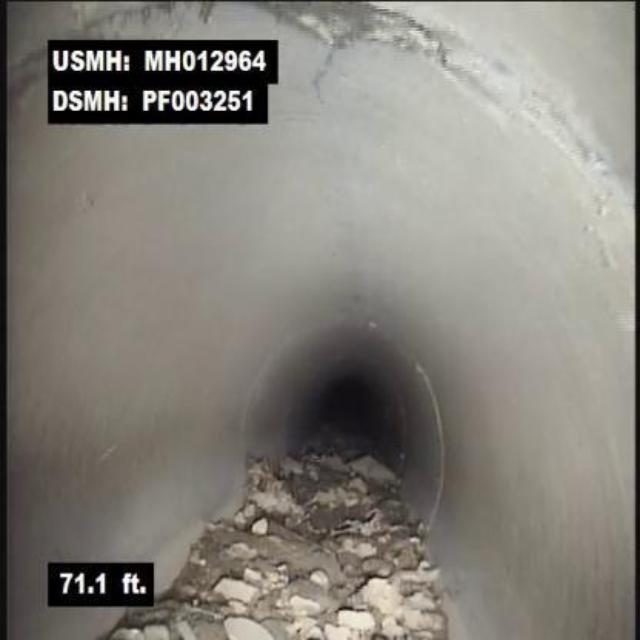Crack: (308, 46, 340, 106)
Obstacle: (155, 432, 309, 638), (312, 445, 452, 638)
